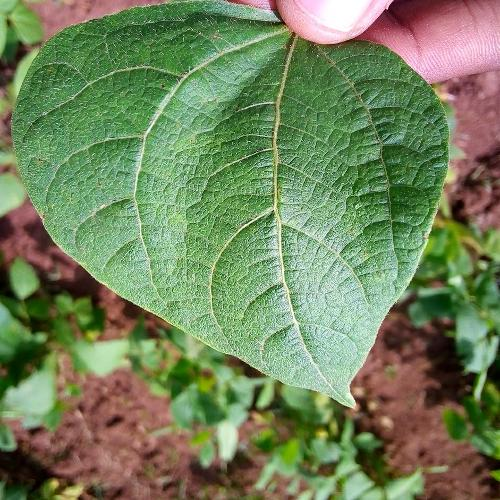sehat: (181, 78, 351, 322)
